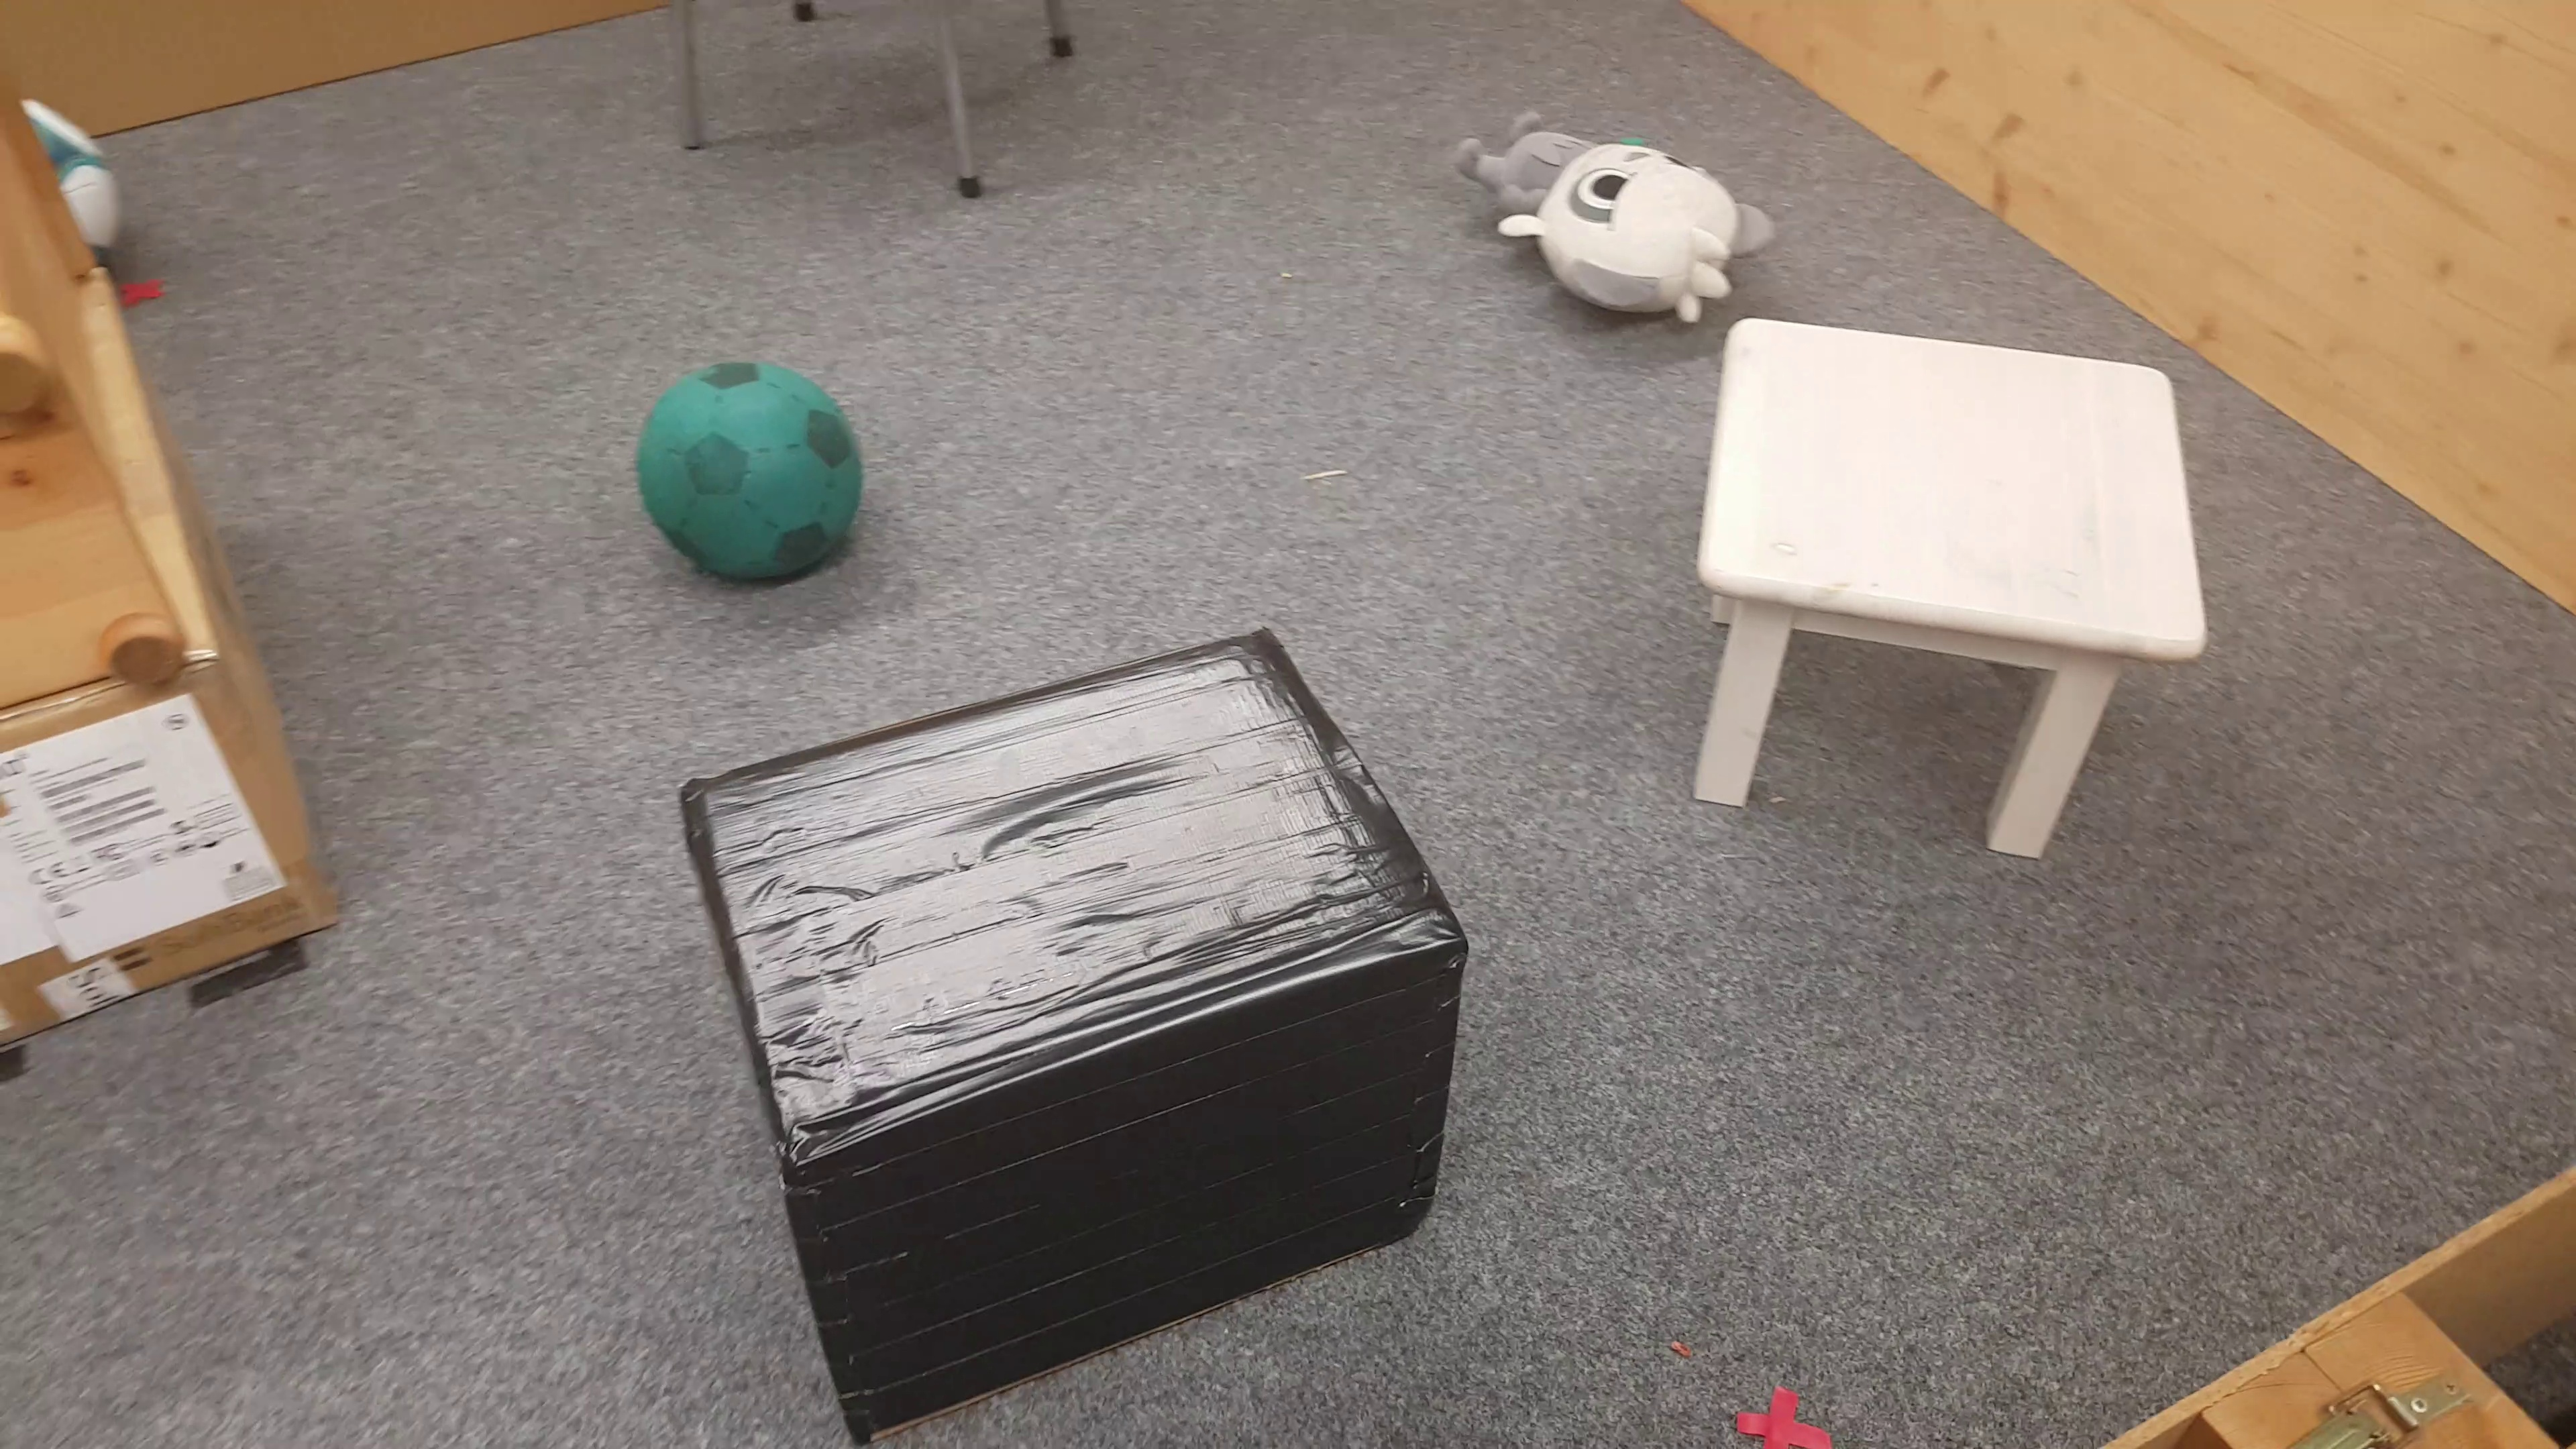grasp: (1453, 106, 1767, 320)
kick: (637, 361, 865, 593)
push: (679, 625, 1453, 1410)
